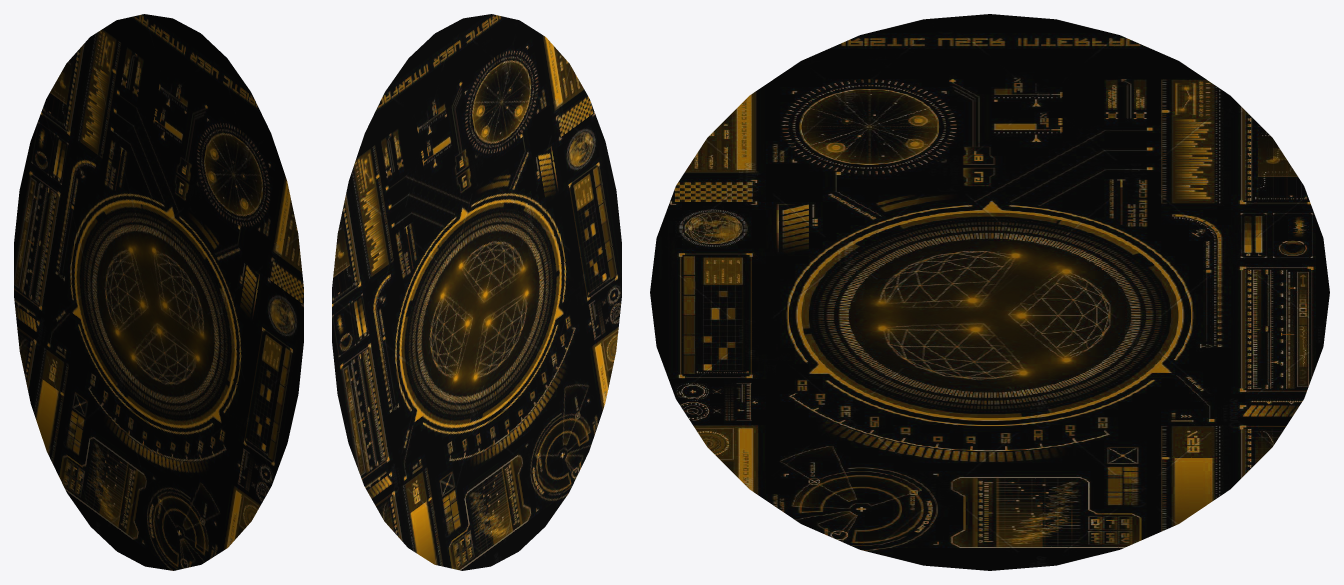
The model's file is CockpitPanel3.fbx.
The picture shows the model from 3 angles, left to right: view 1: azimuth 30°, elevation 25°; view 2: azimuth 150°, elevation 25°; view 3: azimuth 270°, elevation 25°; orthographic projection. The views are drawn at different scales.
Visible parts, largest first — view 1: Scheibe; view 2: Scheibe; view 3: Scheibe.
Boxes of the visible parts, x1,y1,x2,y2 form: Scheibe: (14,14,303,570); Scheibe: (332,14,621,570); Scheibe: (650,14,1329,570).
Size of the model in its own units: 1.88 by 10.66 by 10.83.
